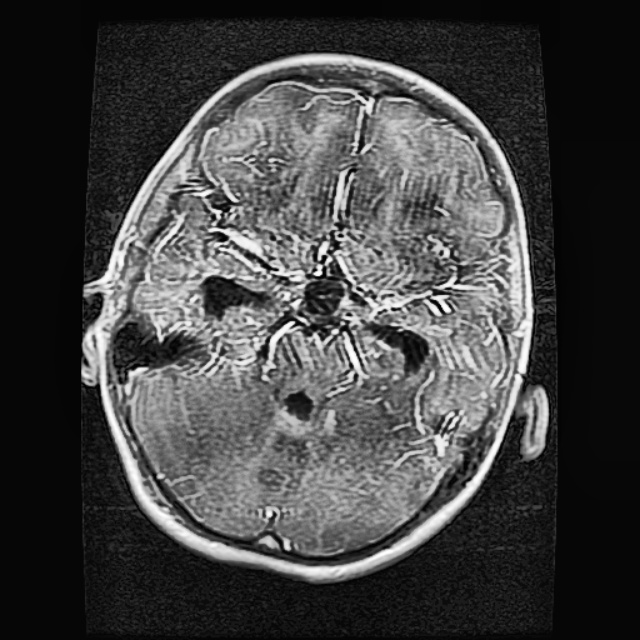Glioma: (199, 274, 264, 314)
